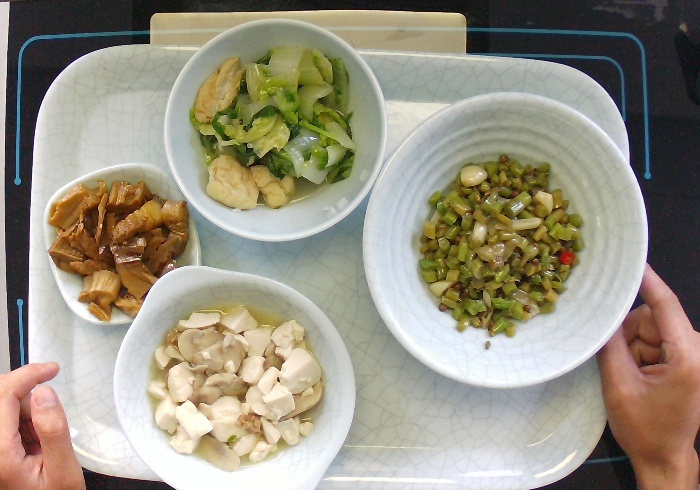JYsf-Fan_Wan: (160, 14, 392, 246)
JYsf-Shuang_Er_Wan: (113, 262, 358, 490)
JYsf-Si_Fang_Die: (43, 158, 208, 326)
JYsf-Xiao_Tang_Wan: (357, 88, 651, 385)
